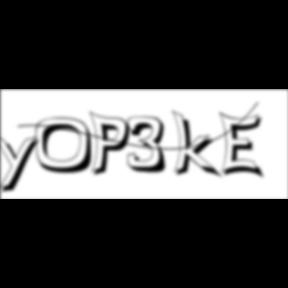3: (127, 116, 173, 176)
E: (220, 110, 268, 182)
O: (36, 117, 100, 176)
P: (90, 110, 136, 180)
k: (172, 108, 224, 181)
y: (0, 132, 46, 196)
